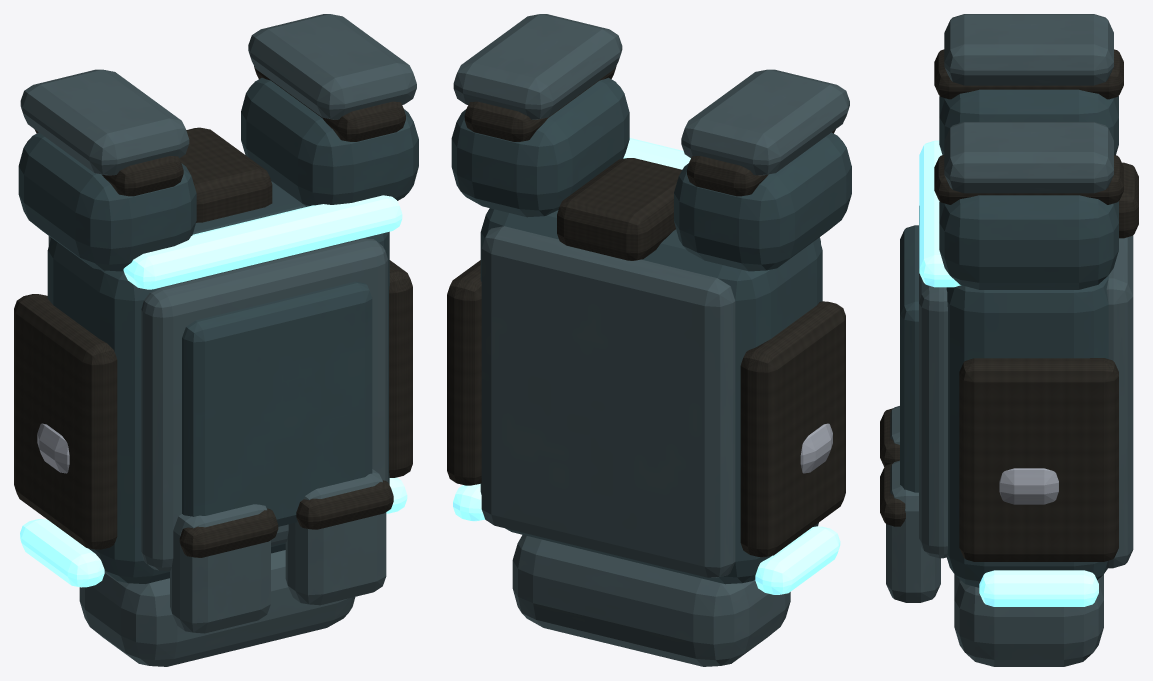
The model's file is pickup_armor_vest.glb.
3 views of the same model, side by side, from view 1: azimuth 30°, elevation 25°; view 2: azimuth 150°, elevation 25°; view 3: azimuth 270°, elevation 25° (orthographic). The views are drawn at different scales.
Visible parts, largest first — view 1: pickup_armor_vest_plate_border, pickup_armor_vest_plate_front, pickup_armor_vest_cummerbund_l, pickup_armor_vest_shell, pickup_armor_vest_shoulder_l, pickup_armor_vest_shoulder_r, pickup_armor_vest_hem, pickup_armor_vest_pad_l, pickup_armor_vest_pad_r, pickup_armor_vest_collar, pickup_armor_vest_pouch_l, pickup_armor_vest_pouch_r (+8 smaller); view 2: pickup_armor_vest_plate_back, pickup_armor_vest_hem, pickup_armor_vest_cummerbund_l, pickup_armor_vest_shoulder_l, pickup_armor_vest_shoulder_r, pickup_armor_vest_shell, pickup_armor_vest_pad_l, pickup_armor_vest_pad_r, pickup_armor_vest_neck_yoke, pickup_armor_vest_cummerbund_r, pickup_armor_vest_stripe_l, pickup_armor_vest_strap_r (+4 smaller); view 3: pickup_armor_vest_cummerbund_r, pickup_armor_vest_shoulder_r, pickup_armor_vest_shell, pickup_armor_vest_pad_l, pickup_armor_vest_pad_r, pickup_armor_vest_hem, pickup_armor_vest_plate_front, pickup_armor_vest_plate_back, pickup_armor_vest_shoulder_l, pickup_armor_vest_plate_border, pickup_armor_vest_pouch_r, pickup_armor_vest_stripe_r (+7 smaller).
Boxes of the visible parts, x1,y1,x2,y2 form: pickup_armor_vest_plate_border: (182, 281, 372, 526); pickup_armor_vest_plate_front: (141, 238, 387, 570); pickup_armor_vest_cummerbund_l: (14, 294, 117, 549); pickup_armor_vest_shell: (47, 181, 389, 583); pickup_armor_vest_shoulder_l: (18, 132, 196, 271); pickup_armor_vest_shoulder_r: (241, 78, 418, 206); pickup_armor_vest_hem: (79, 550, 355, 666); pickup_armor_vest_pad_l: (20, 69, 189, 175); pickup_armor_vest_pad_r: (248, 14, 416, 119); pickup_armor_vest_collar: (123, 195, 402, 289); pickup_armor_vest_pouch_l: (170, 504, 270, 633); pickup_armor_vest_pouch_r: (285, 469, 386, 605); pickup_armor_vest_plate_back: (481, 226, 735, 577); pickup_armor_vest_hem: (512, 535, 790, 666); pickup_armor_vest_cummerbund_l: (740, 301, 845, 557); pickup_armor_vest_shoulder_l: (674, 132, 851, 271); pickup_armor_vest_shoulder_r: (451, 77, 629, 217); pickup_armor_vest_shell: (480, 208, 822, 584); pickup_armor_vest_pad_l: (681, 69, 849, 175); pickup_armor_vest_pad_r: (453, 14, 622, 119); pickup_armor_vest_neck_yoke: (557, 158, 681, 260); pickup_armor_vest_cummerbund_r: (447, 260, 481, 485); pickup_armor_vest_stripe_l: (755, 526, 840, 594); pickup_armor_vest_strap_r: (464, 66, 616, 141); pickup_armor_vest_cummerbund_r: (959, 358, 1118, 561); pickup_armor_vest_shoulder_r: (939, 195, 1118, 289); pickup_armor_vest_shell: (946, 275, 1108, 587); pickup_armor_vest_pad_l: (944, 14, 1113, 85); pickup_armor_vest_pad_r: (944, 122, 1113, 193); pickup_armor_vest_hem: (954, 574, 1103, 666); pickup_armor_vest_plate_front: (919, 206, 947, 558); pickup_armor_vest_plate_back: (1106, 235, 1133, 568); pickup_armor_vest_shoulder_l: (939, 89, 1118, 155); pickup_armor_vest_plate_border: (900, 225, 918, 492); pickup_armor_vest_pouch_r: (886, 460, 940, 602); pickup_armor_vest_stripe_r: (979, 570, 1098, 606).
Bounding box in the file's own units: 0.386 × 0.5995 × 0.2595.
5 materials, 4 textured.
